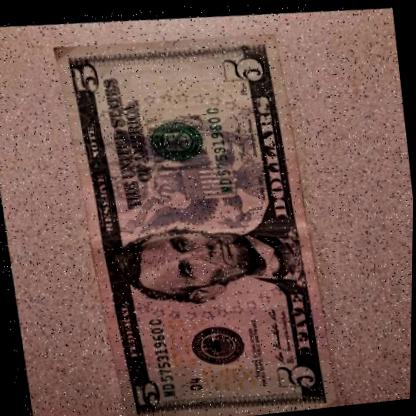five-front: (46, 14, 342, 416)
